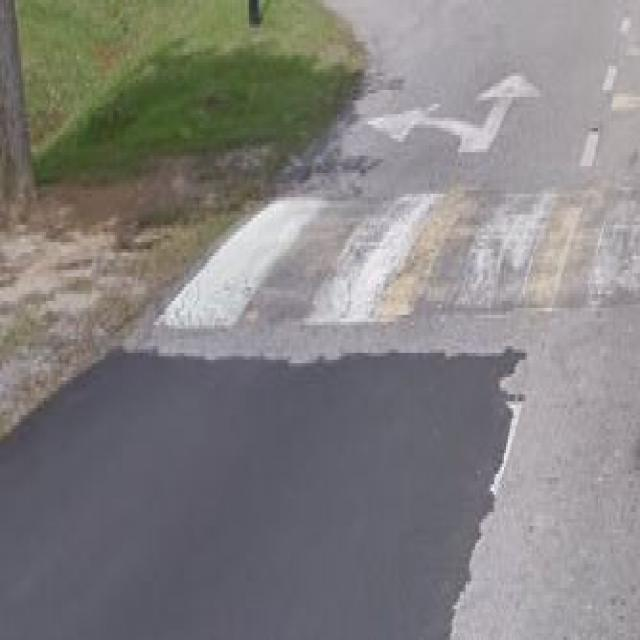speed-bump: (148, 135, 640, 338)
